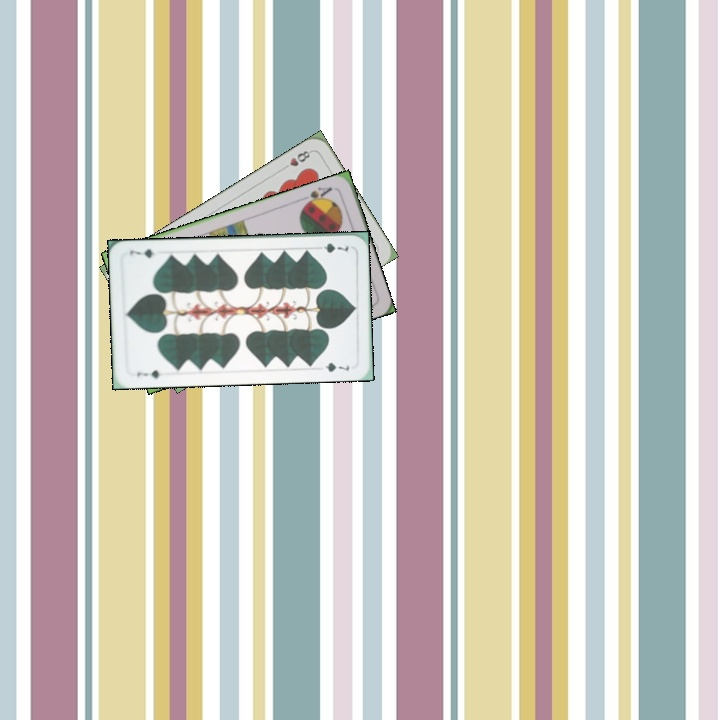G7: (312, 239, 351, 255), (133, 366, 168, 381)
H8: (278, 146, 314, 173)
SA: (298, 183, 335, 209)
